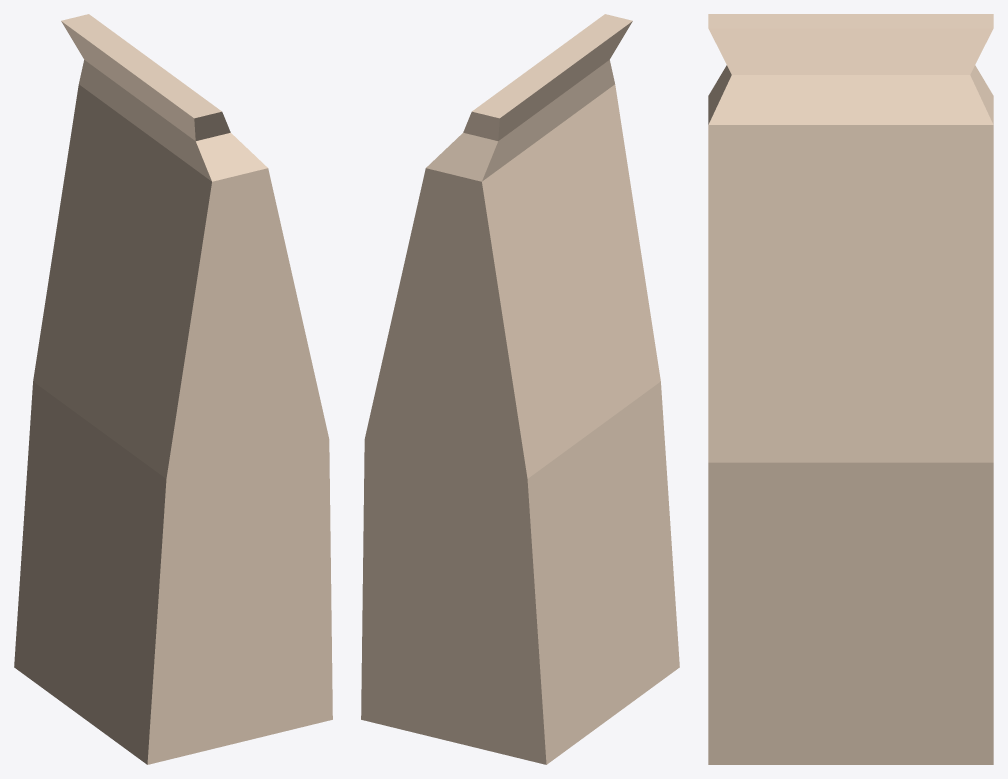
The model's file is Bag_coffe2.fbx.
3 views of the same model, side by side, from view 1: azimuth 30°, elevation 25°; view 2: azimuth 150°, elevation 25°; view 3: azimuth 270°, elevation 25° (orthographic). The views are drawn at different scales.
Parts seen in each view (by area): view 1: bag coffe.011; view 2: bag coffe.011; view 3: bag coffe.011.
Boxes of the visible parts, x1,y1,x2,y2 form: bag coffe.011: (14,14,332,764); bag coffe.011: (361,14,679,764); bag coffe.011: (708,14,993,764).
Size of the model in its own units: 0.0556 by 0.1819 by 0.0692.
